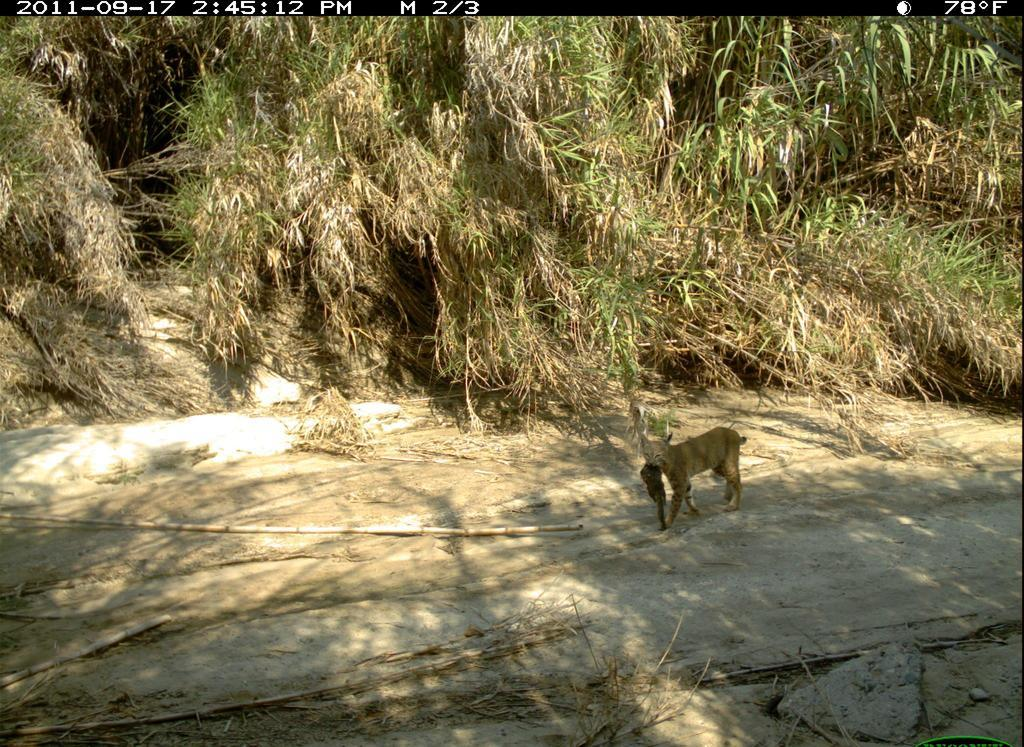squirrel: (636, 460, 673, 534)
